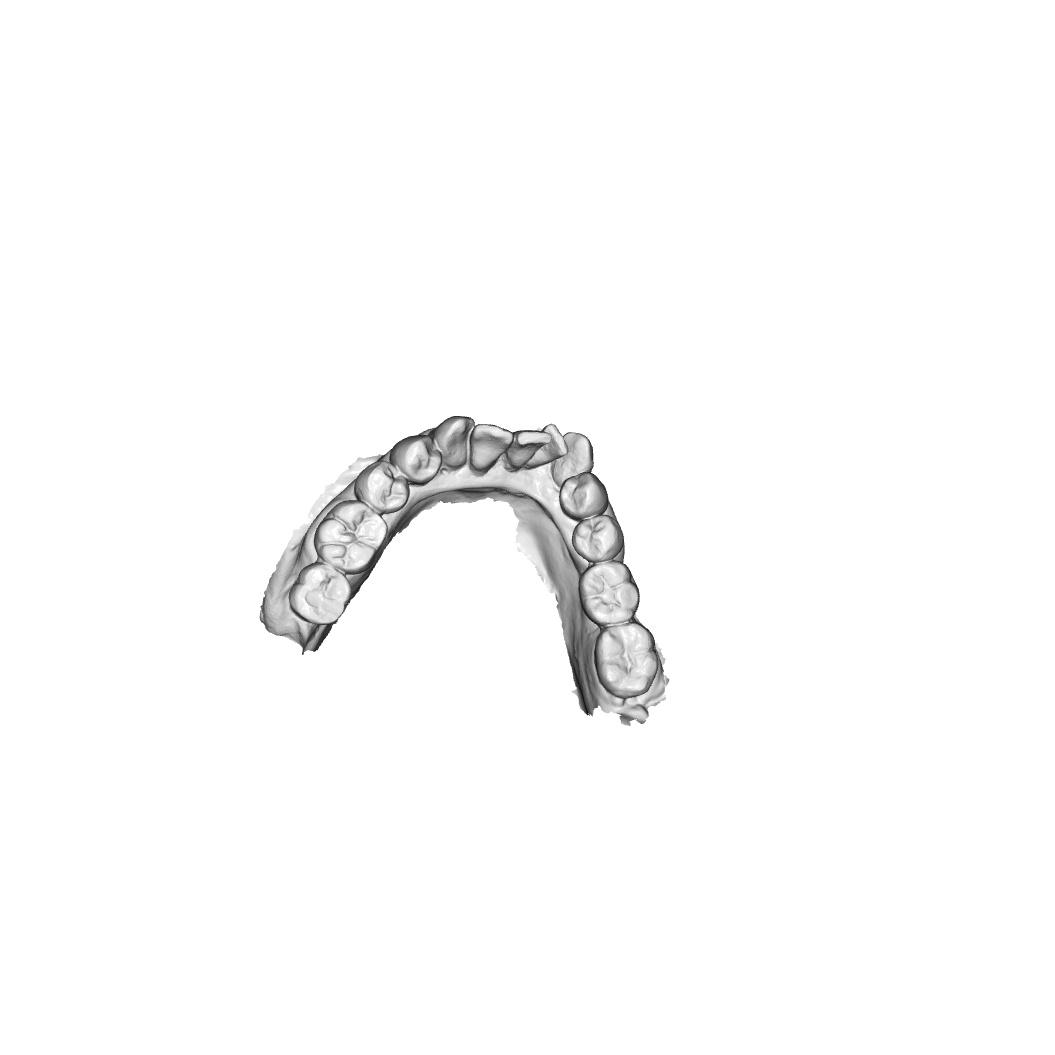canine: (551, 430, 595, 489), (429, 415, 475, 471)
incisor: (468, 423, 514, 473), (505, 429, 552, 470), (533, 422, 568, 472)
molar: (313, 499, 389, 575), (593, 621, 659, 700), (288, 561, 353, 626), (578, 560, 640, 626)
premolar: (353, 460, 410, 515), (389, 434, 443, 486), (571, 514, 624, 564), (559, 471, 609, 522)
